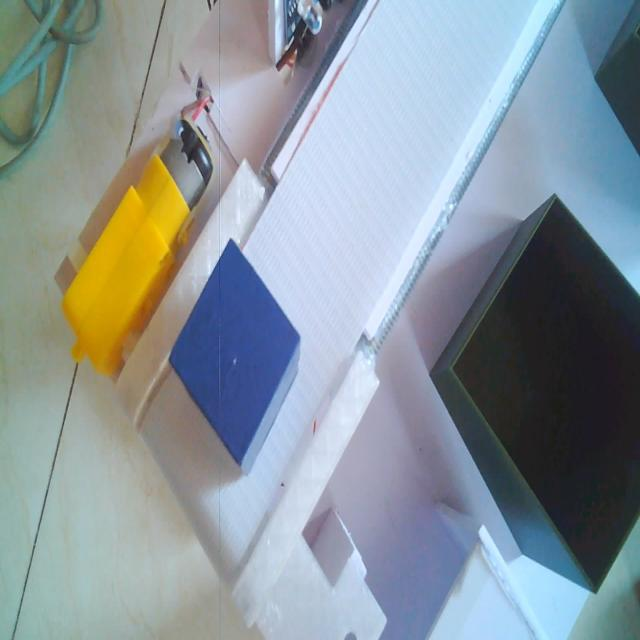blue: (168, 234, 302, 483)
